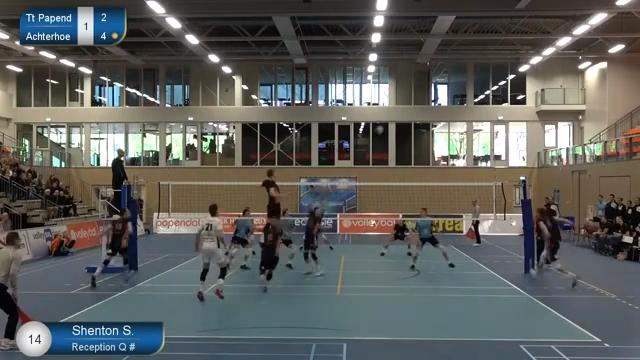Player: (536, 208, 578, 287), (195, 204, 229, 300), (91, 207, 129, 287), (410, 208, 454, 269), (260, 222, 281, 292), (230, 208, 254, 269), (261, 169, 280, 226), (380, 221, 409, 255), (281, 209, 294, 269), (317, 224, 333, 249)
Set: (297, 193, 328, 277)
ball: (374, 124, 384, 135)
